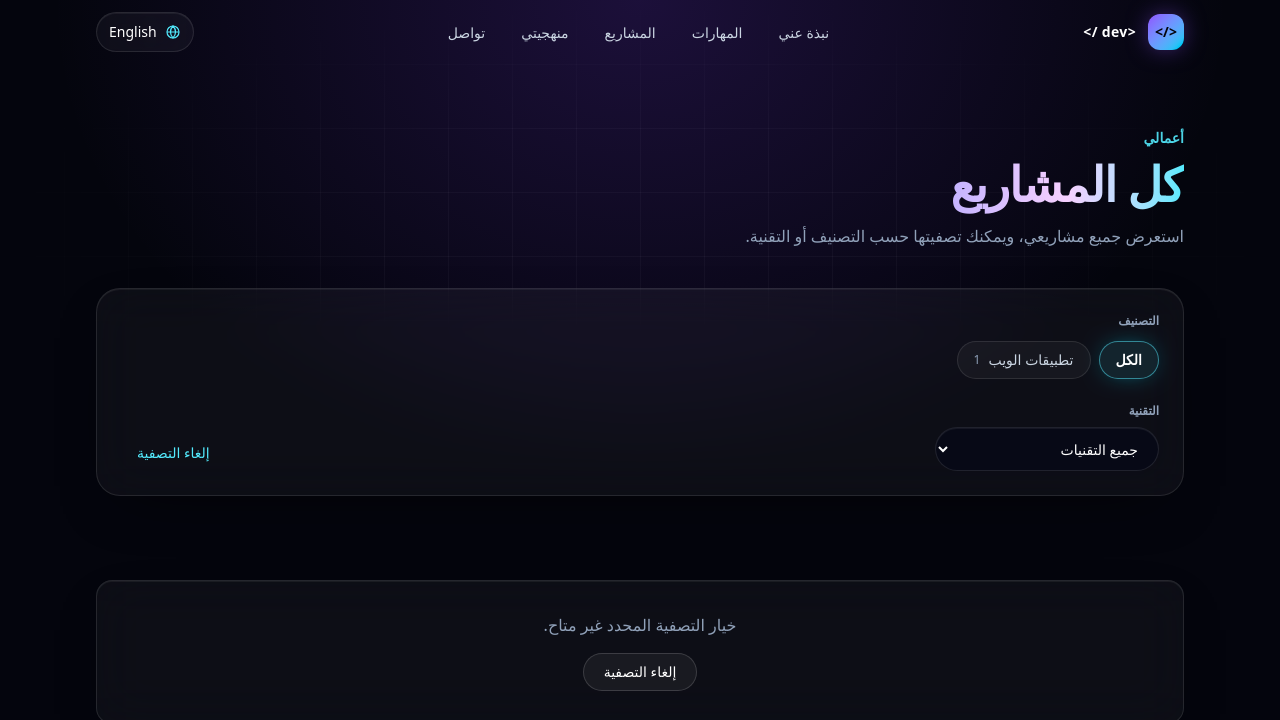
it: Projects page — filters › explains an unknown filter in Arabic and clears it
Click the link "إلغاء التصفية" below "خيار التصفية المحدد غير متاح.". click: {"x": 640, "y": 672}
box: [583,653,697,691]
(page scrolled)
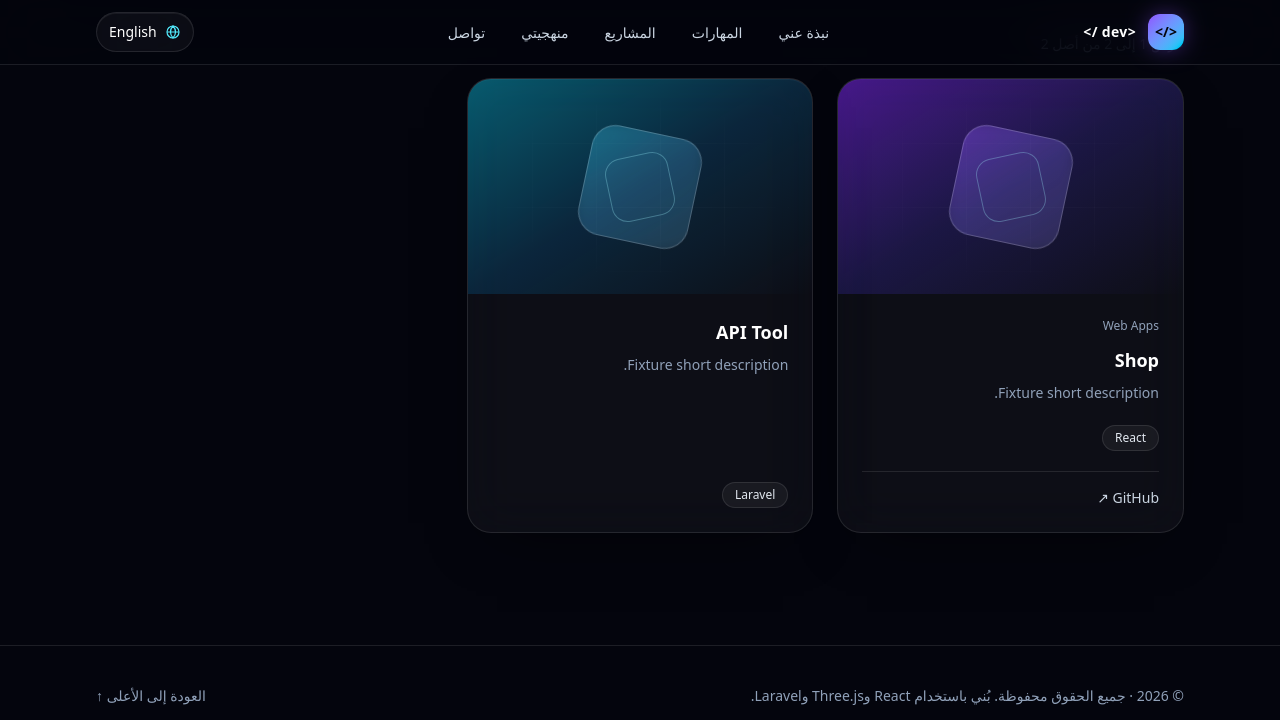
Expected: the link "Shop" is shown, [1115,348,1159,372]
